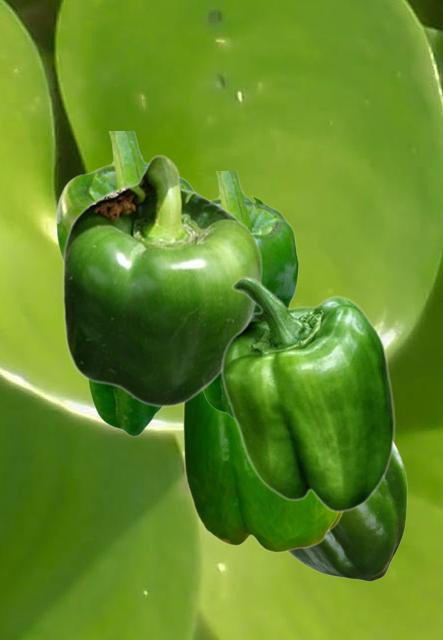bell_pepper: (61, 154, 262, 407), (55, 131, 194, 436), (220, 276, 395, 512), (182, 393, 343, 552), (203, 171, 298, 418), (288, 444, 406, 580)
